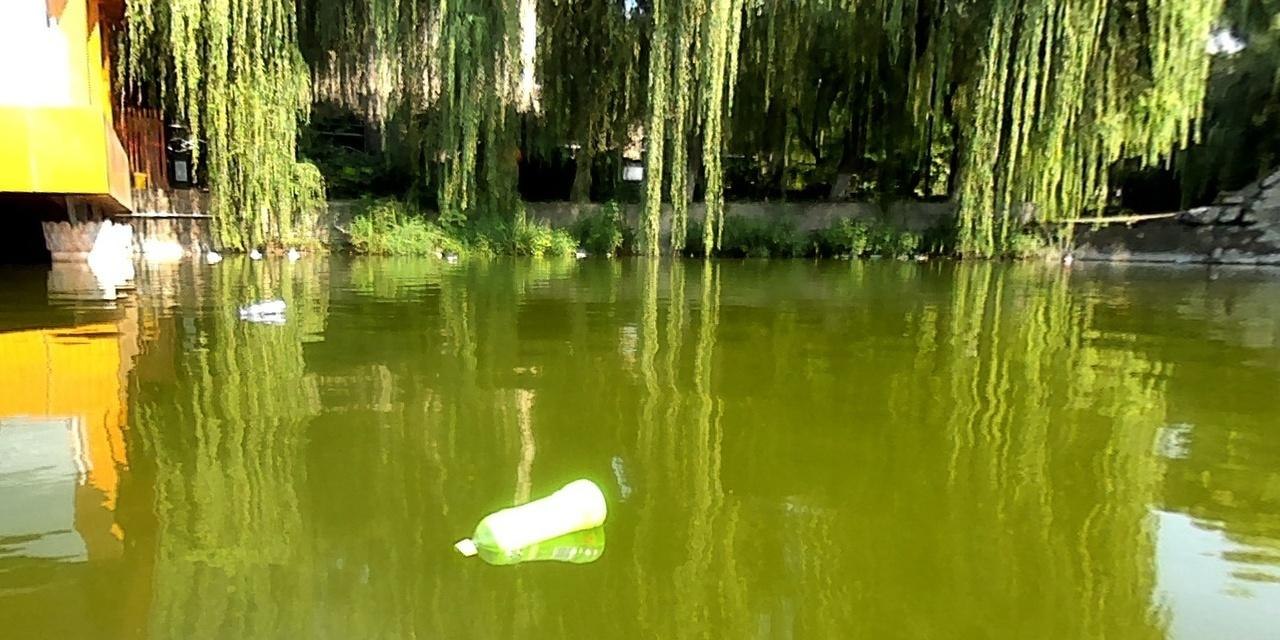bottle: (456, 476, 605, 558), (237, 298, 283, 317), (205, 251, 221, 263), (248, 248, 259, 259)
